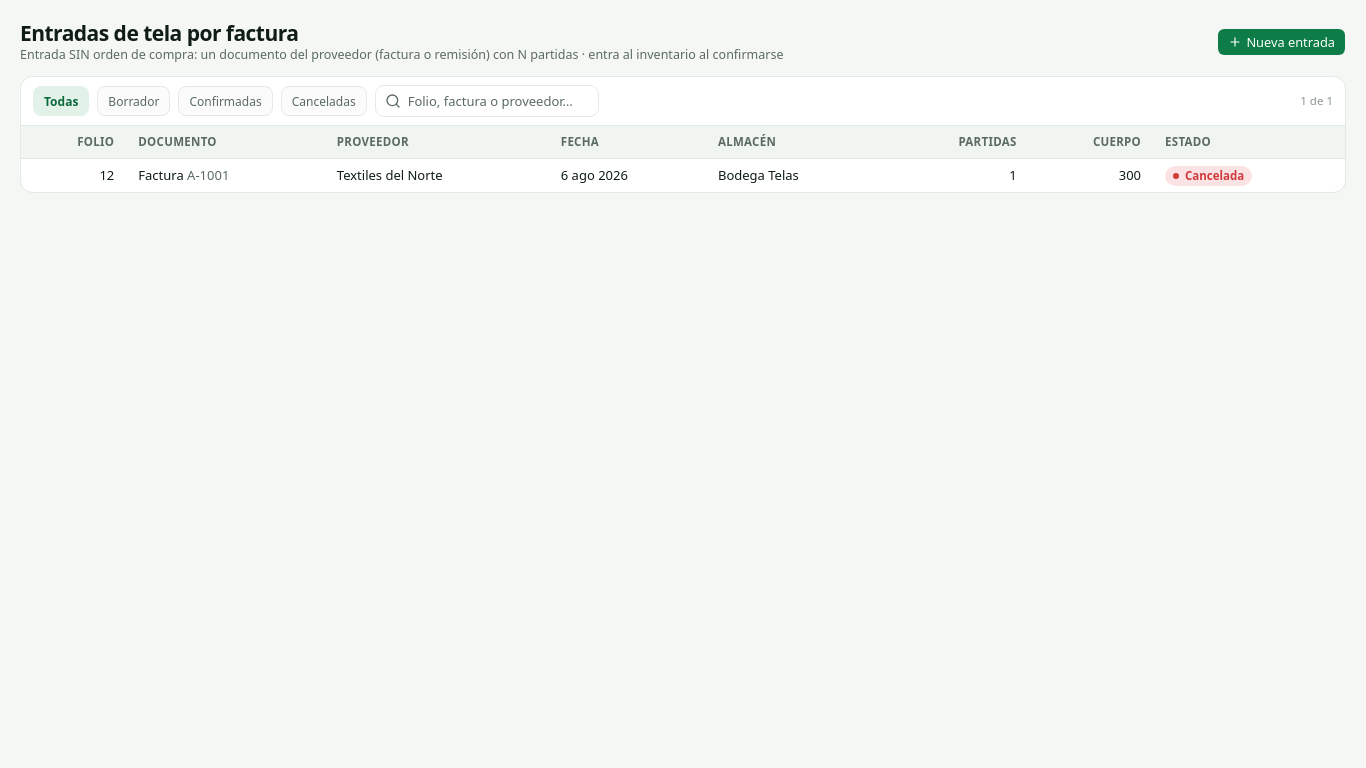
Scenario: EntradasTelaPagina (B1) › una CANCELADA no ofrece ninguna acción y muestra el motivo
Click the row with test id "fila-entrada-5": (161, 175) [21,158,1345,192]
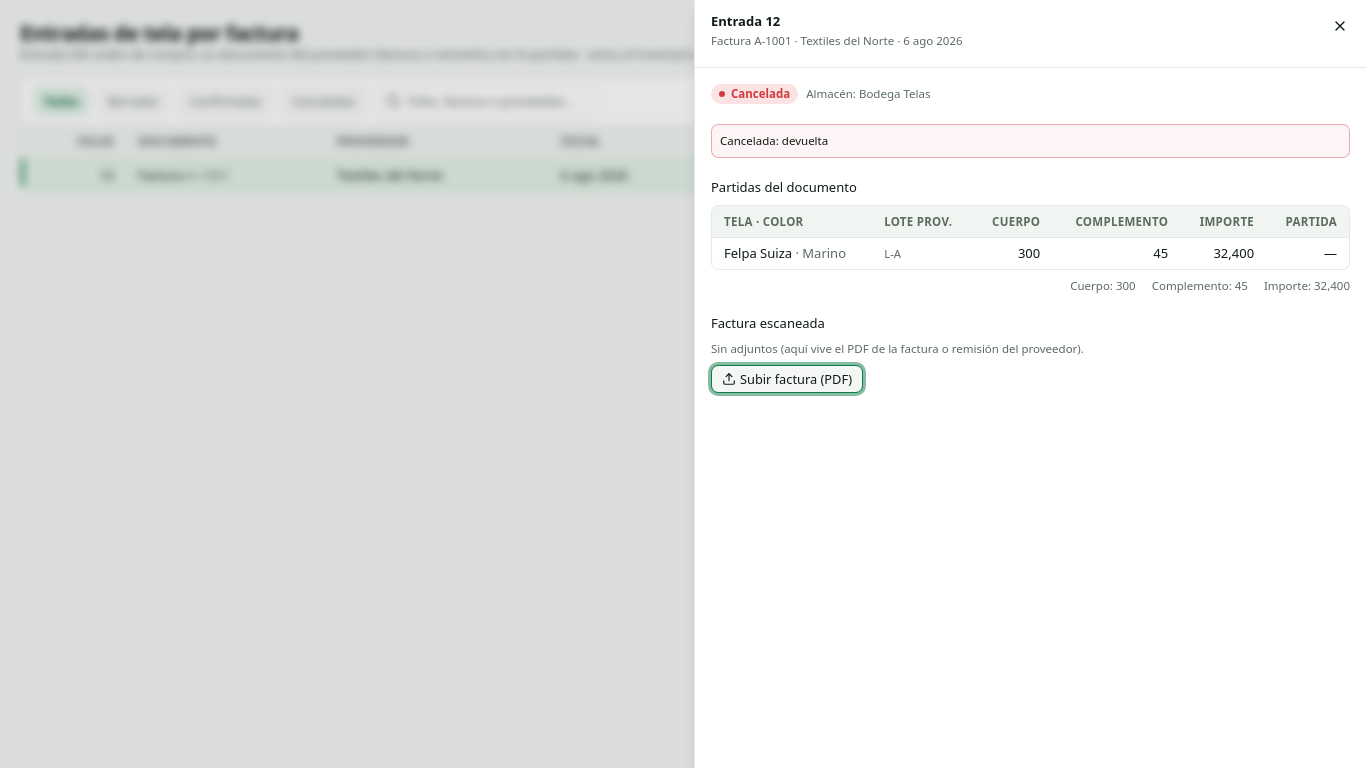
Result: the text "Cancelada: devuelta" is shown at [711,124,1350,158]
